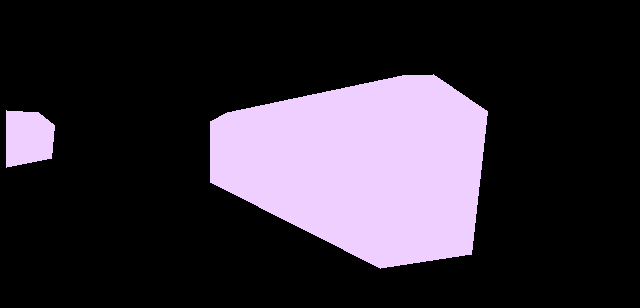Train: (210, 74, 487, 268), (6, 110, 55, 167)
